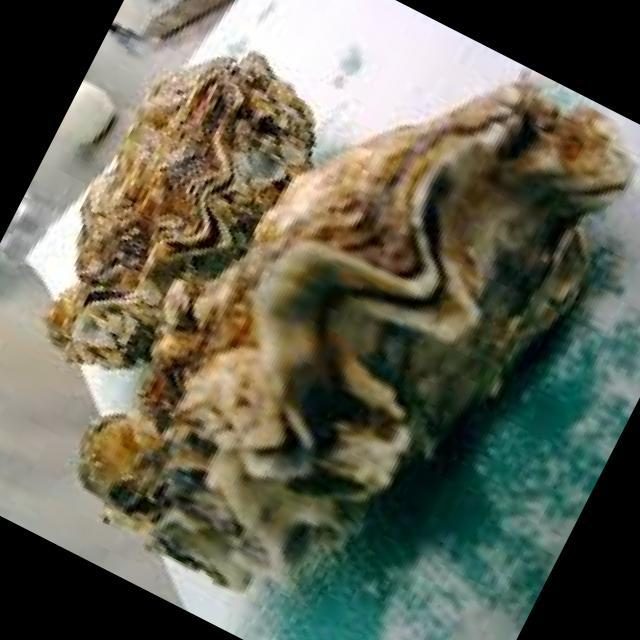Oyster-Closed: (0, 15, 345, 406)
